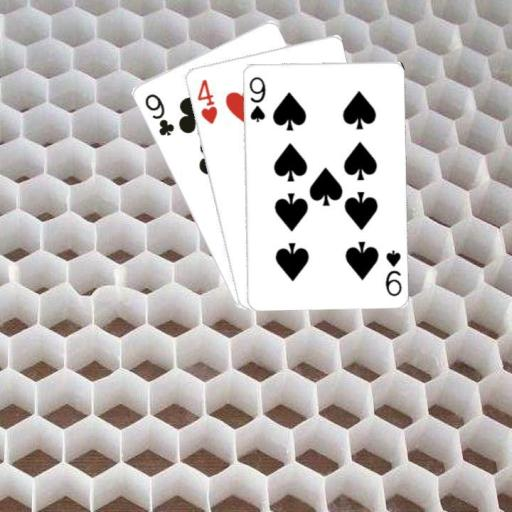4H: (193, 76, 219, 125)
9C: (141, 90, 176, 138)
9S: (245, 73, 267, 124), (382, 247, 402, 297)
